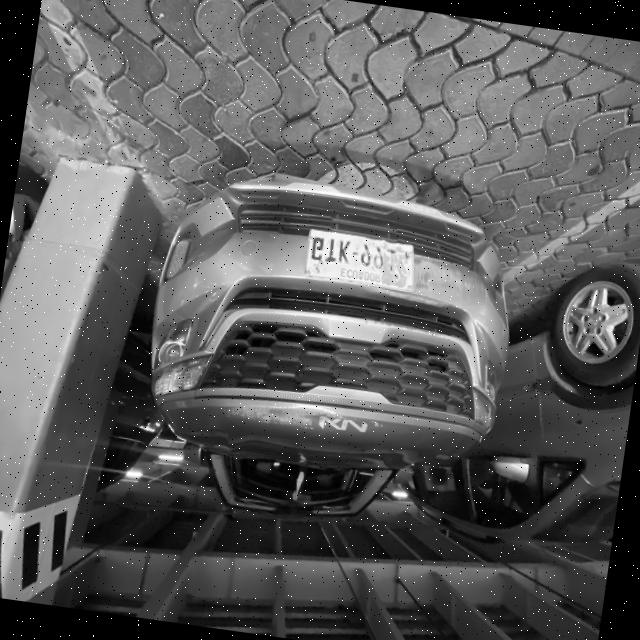Placa: (306, 229, 414, 290)
